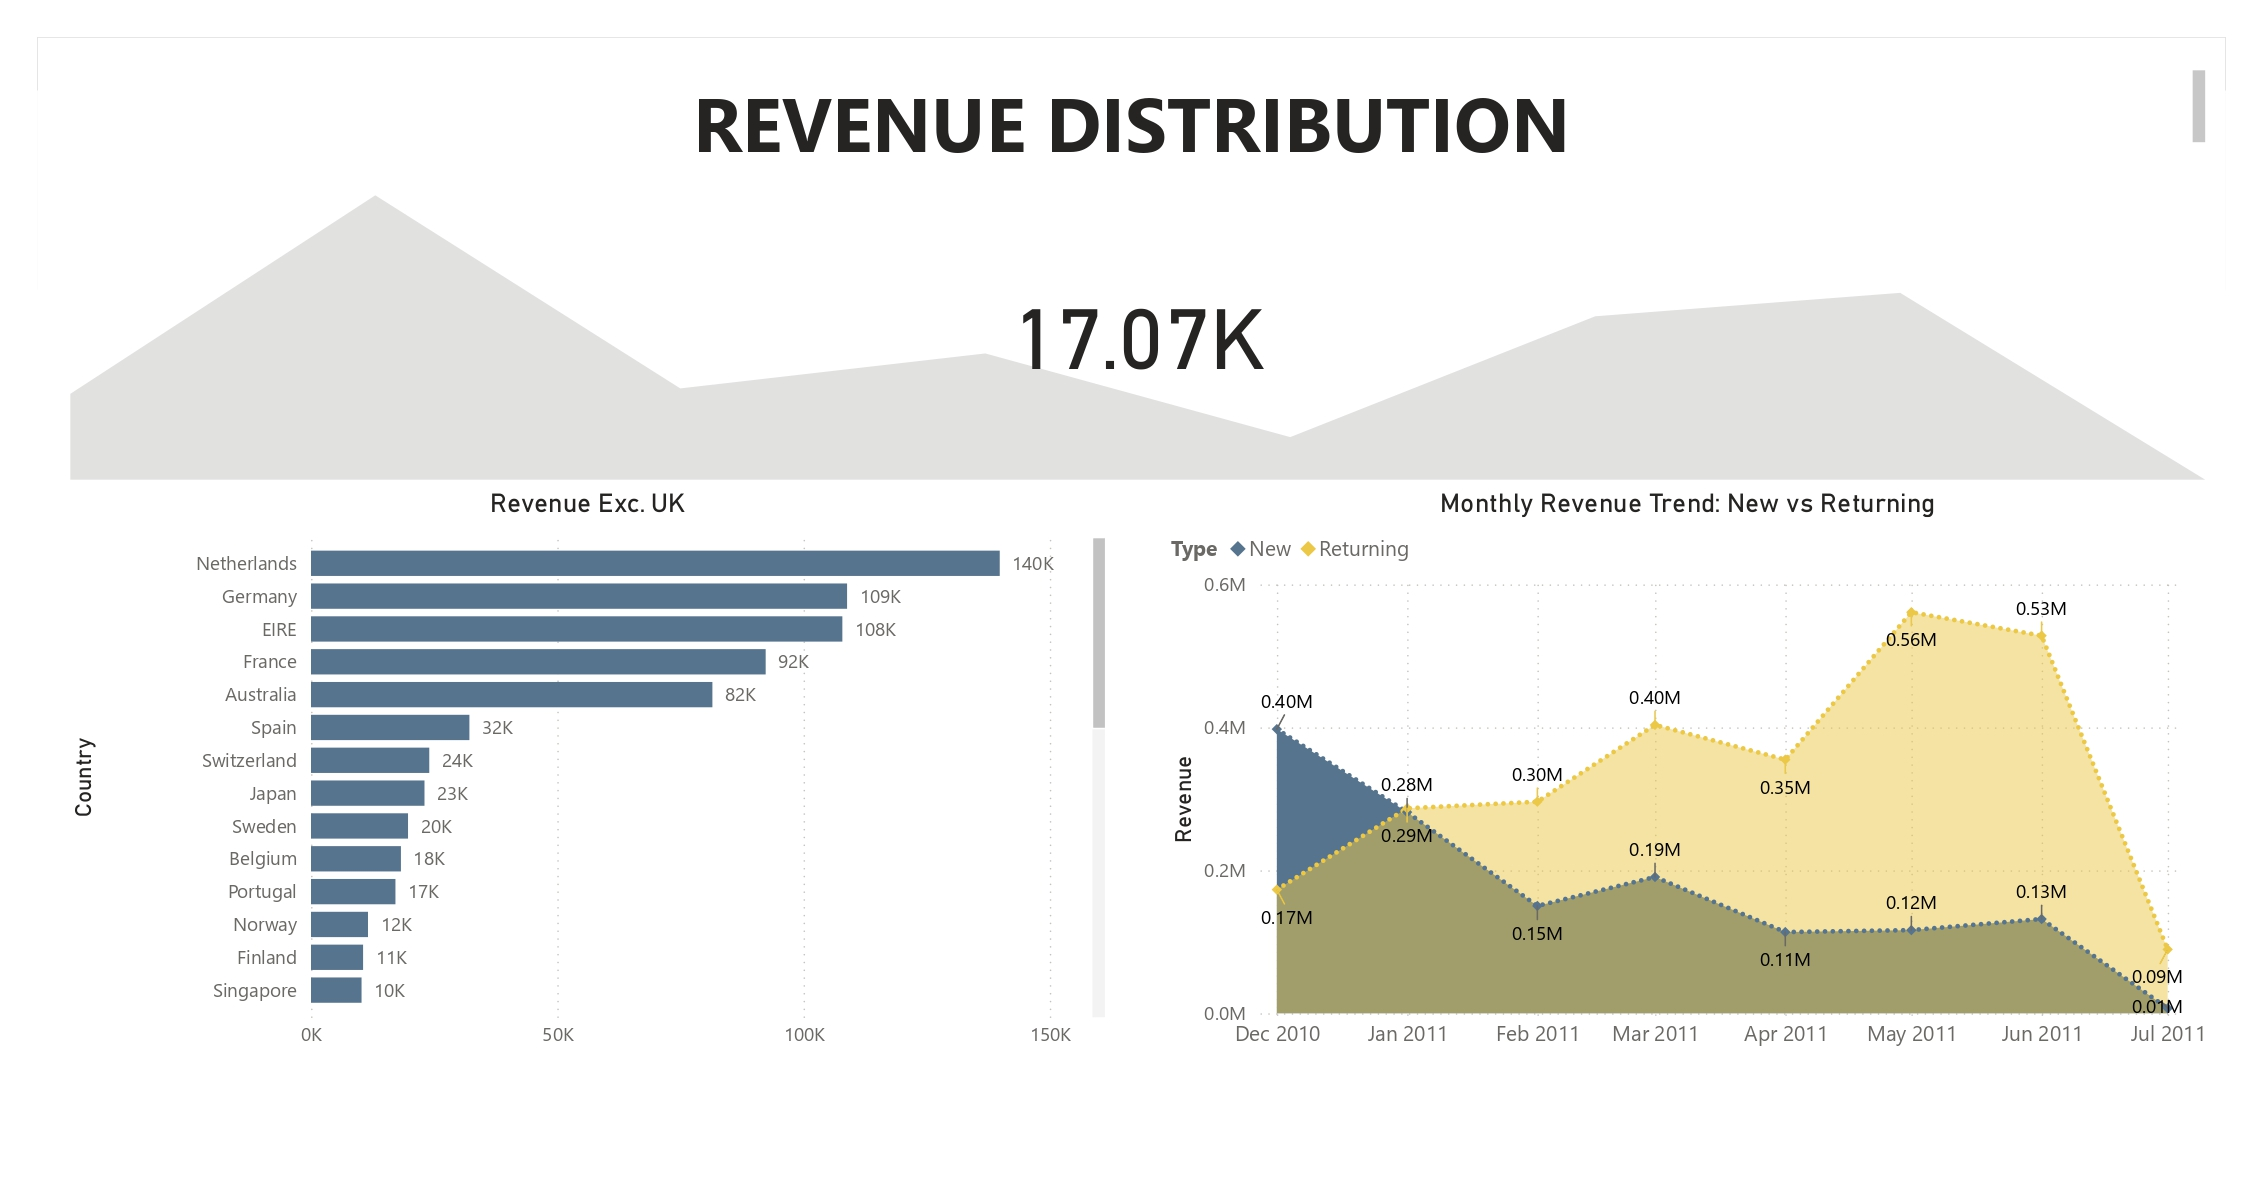

This screenshot's page, from the dashboard's own definition file:
{"tool":"powerbi","page":{"name":"Revenue Distribution","canvas":[1400,720],"ordinal":2},"visuals":[{"type":"clusteredBarChart","title":"Revenue Exc. UK","fields":{"Category":["edata_customer_type.Country"],"Y":["edata_customer_type.Revenue Ex. UK"]},"box":[16,288,672,368],"z":0},{"type":"lineChart","title":"Monthly Revenue Trend: New vs Returning","fields":{"Category":["edata_customer_type.Year_Month"],"Y":["edata_customer_type.Total Revenue"],"Series":["edata_customer_type.CustomerType"]},"box":[720,288,672,368],"z":1000},{"type":"textbox","box":[16,16,1376,64],"z":2000},{"type":"kpi","title":"Monthly Revenue","fields":{"Indicator":["edata_customer_type.Total Revenue"],"TrendLine":["edata_customer_type.Year_Month"]},"box":[16,96,1376,192],"z":3000}]}

Visuals, with their boxes on the page's 1400x720 design canvas (x1, y1, x2, y2). These are canvas units, not pixel positions in the 2263x1200 screenshot, which may show the page scaled, cropped or inside an application window:
"Revenue Exc. UK" clusteredBarChart: box=[16, 288, 688, 656]
"Monthly Revenue Trend: New vs Returning" lineChart: box=[720, 288, 1392, 656]
textbox: box=[16, 16, 1392, 80]
"Monthly Revenue" kpi: box=[16, 96, 1392, 288]
